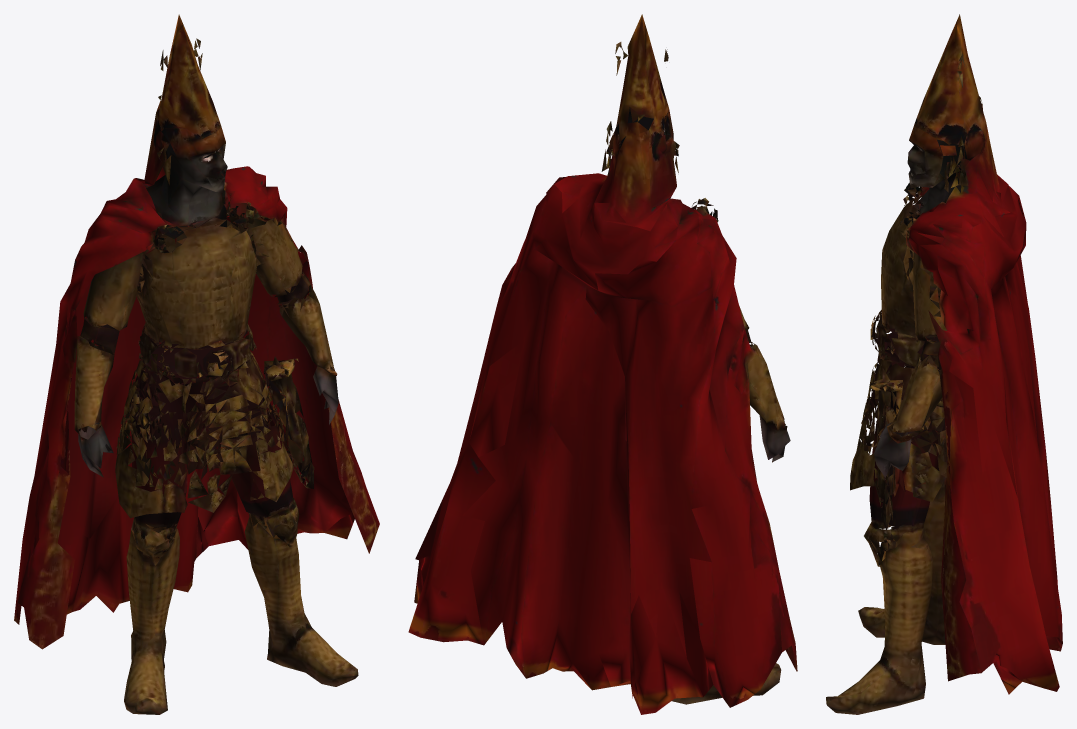
The model's file is golden-king.glb.
The picture shows the model from 3 angles, left to right: view 1: azimuth 30°, elevation 25°; view 2: azimuth 150°, elevation 25°; view 3: azimuth 270°, elevation 25°; orthographic projection. The views are drawn at different scales.
Visible parts, largest first — view 1: golden-king.raw; view 2: golden-king.raw; view 3: golden-king.raw.
Boxes of the visible parts, x1,y1,x2,y2 form: golden-king.raw: [14, 14, 379, 714]; golden-king.raw: [408, 14, 797, 714]; golden-king.raw: [826, 14, 1062, 714].
Bounding box in the file's own units: 1.19 × 2.1 × 0.694.
Materials: 1 (1 with a texture image).
